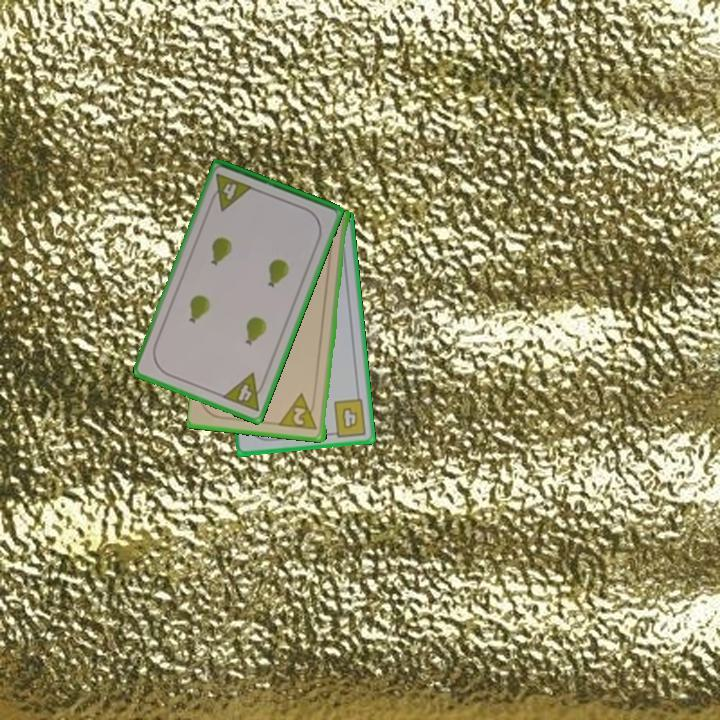2p: (277, 391, 320, 433)
4b: (326, 395, 369, 440)
4p: (219, 369, 270, 415), (206, 170, 256, 214)
